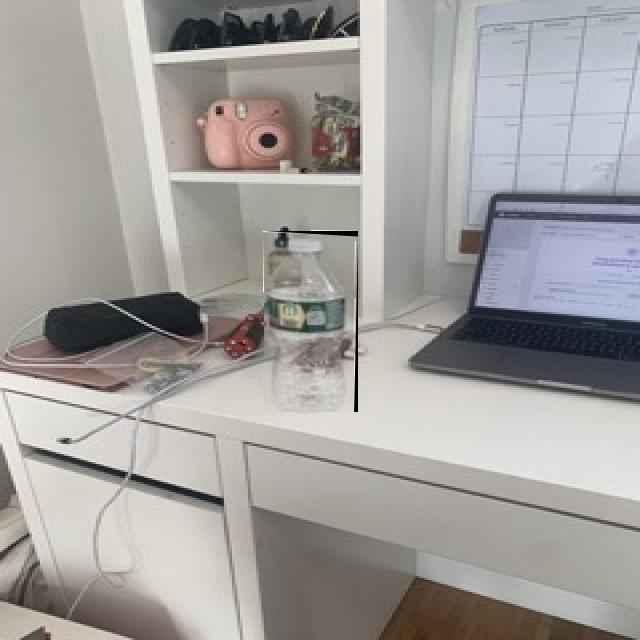water_bottle: (264, 231, 358, 412)
